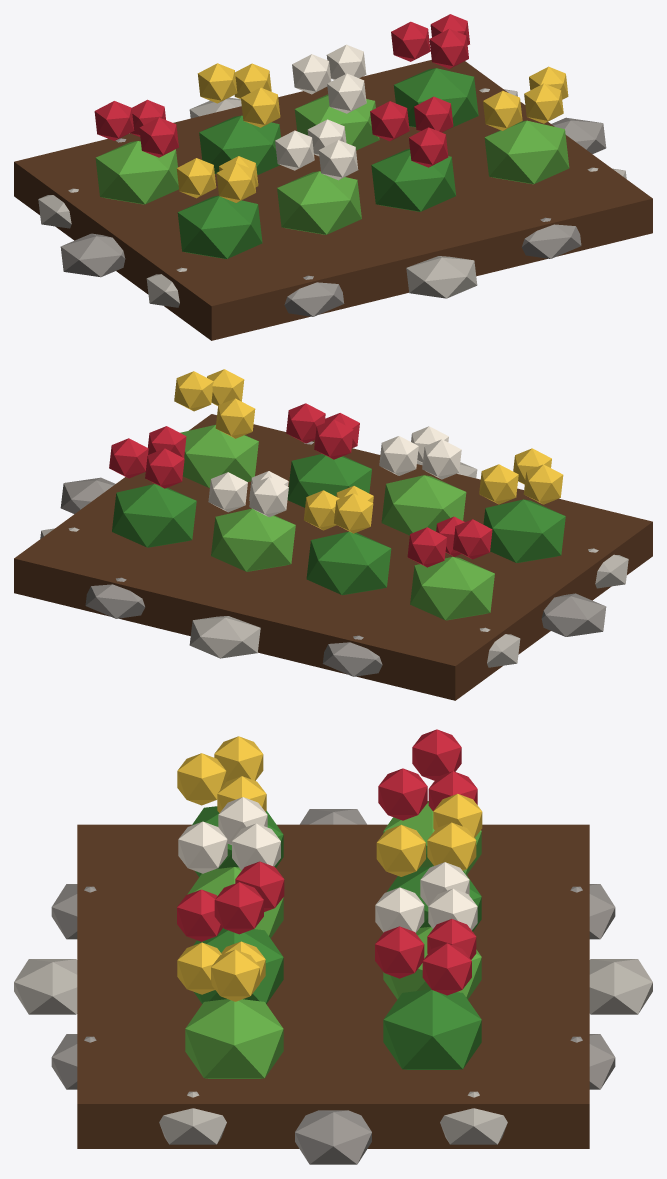
Rendered from flower_bed.glb.
3 renders of one model, top to bottom at view 1: azimuth 30°, elevation 25°; view 2: azimuth 150°, elevation 25°; view 3: azimuth 270°, elevation 25°, orthographic. The views are drawn at different scales.
Visible parts, largest first — view 1: soil, leaf_light, leaf, stone, stone_light, head.017, head.020, head.004, head.005, head.002, head.011, head.023 (+16 smaller); view 2: soil, leaf_light, leaf, stone, stone_light, head, head.004, head.001, head.003, head.007, head.013, head.019 (+14 smaller); view 3: soil, leaf, leaf_light, stone_light, stone, head.005, head.014, head.006, head.017, head.021, head.023, head.009 (+16 smaller).
Part boxes in pixels (bbox=[...]): soil: bbox=[14, 60, 652, 340]; leaf_light: bbox=[95, 94, 569, 234]; leaf: bbox=[177, 68, 478, 258]; stone: bbox=[60, 117, 606, 316]; stone_light: bbox=[38, 88, 626, 307]; head.017: bbox=[241, 87, 280, 127]; head.020: bbox=[327, 73, 366, 113]; head.004: bbox=[275, 130, 314, 170]; head.005: bbox=[318, 140, 358, 180]; head.002: bbox=[216, 162, 255, 202]; head.011: bbox=[524, 83, 563, 123]; head.023: bbox=[429, 28, 468, 68]; soil: bbox=[14, 414, 652, 700]; leaf_light: bbox=[180, 424, 494, 620]; leaf: bbox=[112, 454, 565, 595]; stone: bbox=[60, 441, 606, 676]; stone_light: bbox=[40, 460, 628, 667]; head: bbox=[479, 464, 518, 504]; head.004: bbox=[422, 439, 461, 479]; head.001: bbox=[523, 464, 563, 504]; head.003: bbox=[379, 436, 418, 475]; head.007: bbox=[314, 419, 353, 459]; head.013: bbox=[453, 519, 492, 559]; head.019: bbox=[249, 477, 288, 517]; soil: bbox=[77, 824, 589, 1148]; leaf: bbox=[191, 806, 481, 1069]; leaf_light: bbox=[185, 801, 481, 1078]; stone_light: bbox=[14, 959, 652, 1144]; stone: bbox=[51, 809, 615, 1164]; head.005: bbox=[178, 821, 227, 873]; head.014: bbox=[378, 768, 427, 820]; head.006: bbox=[214, 882, 263, 934]; head.017: bbox=[376, 824, 425, 876]; head.021: bbox=[422, 943, 471, 995]; head.023: bbox=[375, 926, 424, 978]; head.009: bbox=[211, 949, 259, 1001].
Bounding box in the file's own units: 0.9781 × 0.2335 × 0.7736.
